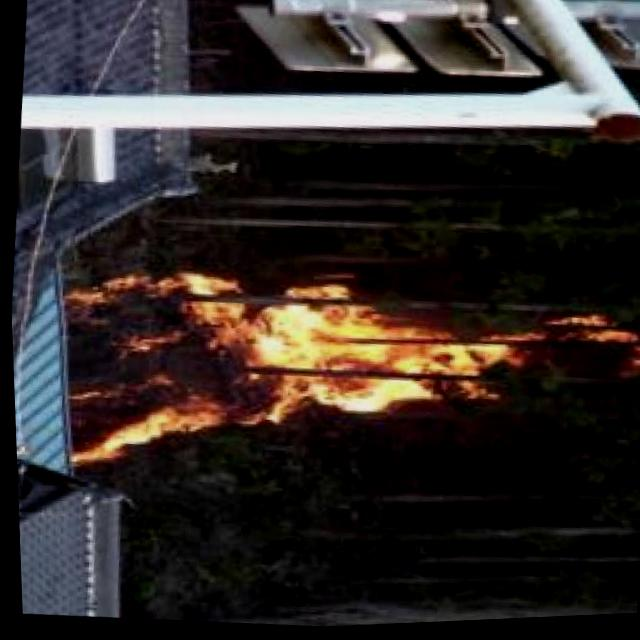Fire: (47, 250, 640, 508)
